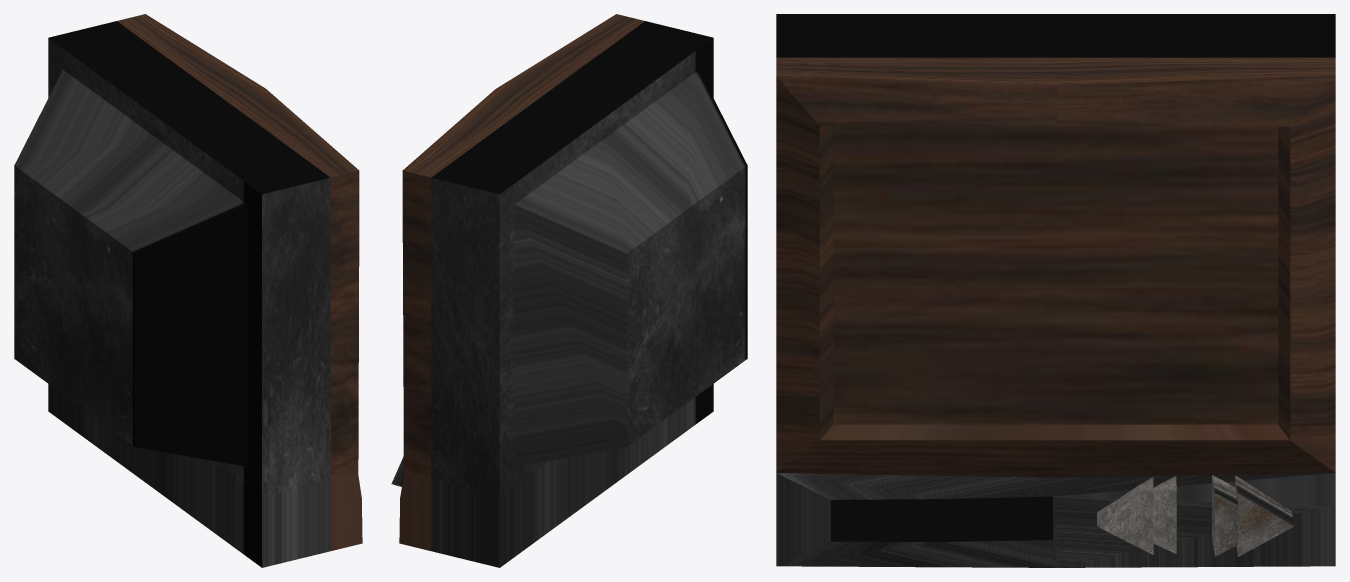
3 renders of one model, left to right at view 1: azimuth 30°, elevation 25°; view 2: azimuth 150°, elevation 25°; view 3: azimuth 270°, elevation 25°, orthographic. The views are drawn at different scales.
Visible parts, largest first — view 1: Cube; view 2: Cube; view 3: Cube, Cube.001, Cube.006, Cube.003, Cube.002.
Part boxes in pixels (left/top/right/bottom): Cube: left=14, top=14, right=362, bottom=567; Cube: left=399, top=14, right=747, bottom=567; Cube: left=776, top=14, right=1335, bottom=567; Cube.001: left=1235, top=475, right=1294, bottom=556; Cube.006: left=1097, top=477, right=1153, bottom=554; Cube.003: left=1212, top=475, right=1237, bottom=556; Cube.002: left=1153, top=476, right=1176, bottom=553.
Size of the model in its own units: 5.21 by 8.92 by 9.26.
Materials: 2 (2 with a texture image).
